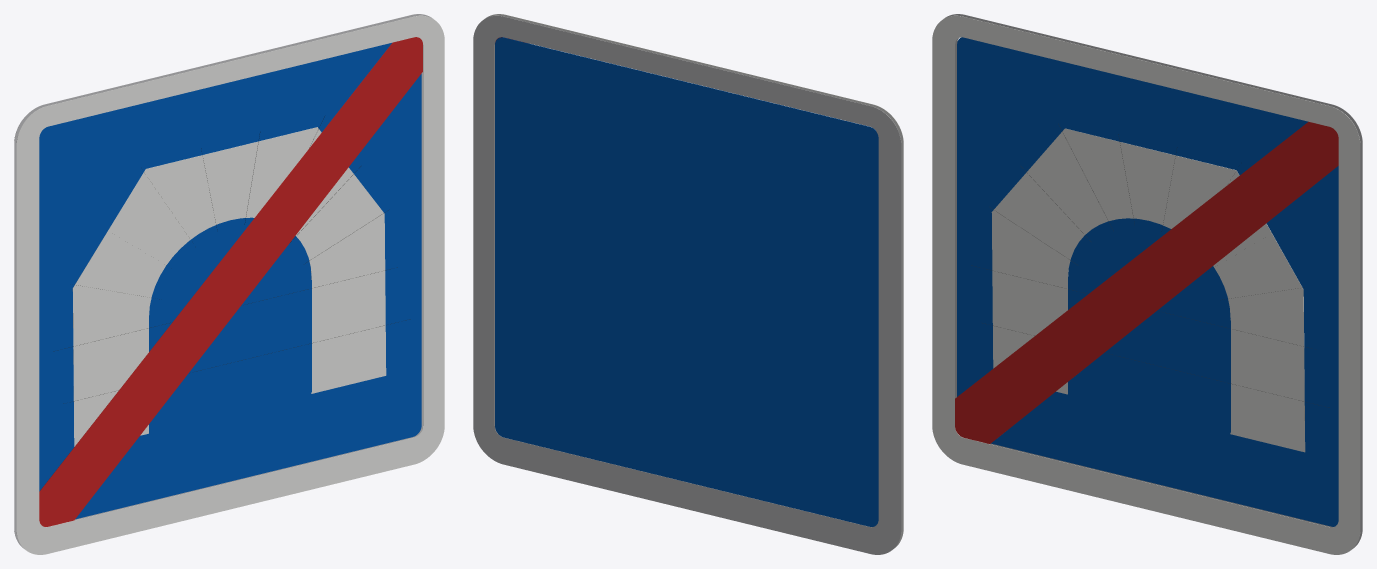
The picture shows the model from 3 angles, left to right: view 1: azimuth 30°, elevation 25°; view 2: azimuth 150°, elevation 25°; view 3: azimuth 330°, elevation 25°; orthographic projection.
Parts seen in each view (by area): view 1: C112_p00, C112_p01, C112_p13, C112_p12, C112_dos; view 2: C112_p00, C112_dos, C112_p13; view 3: C112_p00, C112_p01, C112_p13, C112_p12, C112_dos.
Boxes of the visible parts, bbox=[...] form: C112_p00: bbox=[39, 43, 421, 519]; C112_p01: bbox=[72, 127, 386, 446]; C112_p13: bbox=[16, 15, 444, 554]; C112_p12: bbox=[39, 37, 422, 526]; C112_dos: bbox=[14, 14, 432, 548]; C112_p00: bbox=[495, 37, 878, 526]; C112_dos: bbox=[473, 15, 901, 554]; C112_p13: bbox=[485, 14, 903, 548]; C112_p00: bbox=[957, 37, 1338, 526]; C112_p01: bbox=[991, 128, 1305, 452]; C112_p13: bbox=[932, 15, 1360, 554]; C112_p12: bbox=[955, 121, 1338, 443]; C112_dos: bbox=[944, 14, 1362, 548].
Size of the model in its own units: 0.7 by 0.6999 by 0.0071.
